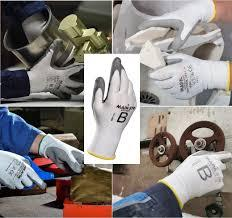gloves: (86, 56, 137, 161), (157, 150, 232, 210), (146, 52, 231, 101), (27, 49, 84, 101), (1, 150, 48, 192), (38, 133, 84, 174)
